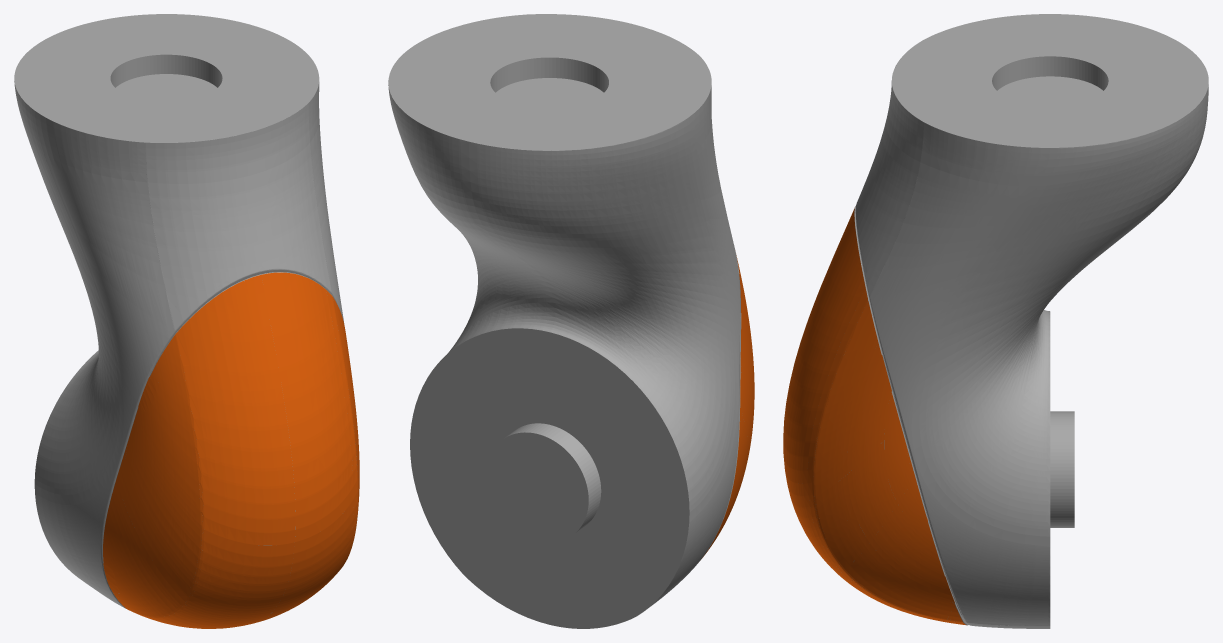
3 views of the same model, side by side, from view 1: azimuth 30°, elevation 25°; view 2: azimuth 150°, elevation 25°; view 3: azimuth 270°, elevation 25° (orthographic). The views are drawn at different scales.
Parts seen in each view (by area): view 1: ply_link4; view 2: ply_link4; view 3: ply_link4.
Boxes of the visible parts, x1,y1,x2,y2 form: ply_link4: (14, 14, 359, 628); ply_link4: (388, 14, 754, 628); ply_link4: (783, 14, 1208, 628).
Bounding box in the file's own units: 136 × 252 × 183.
